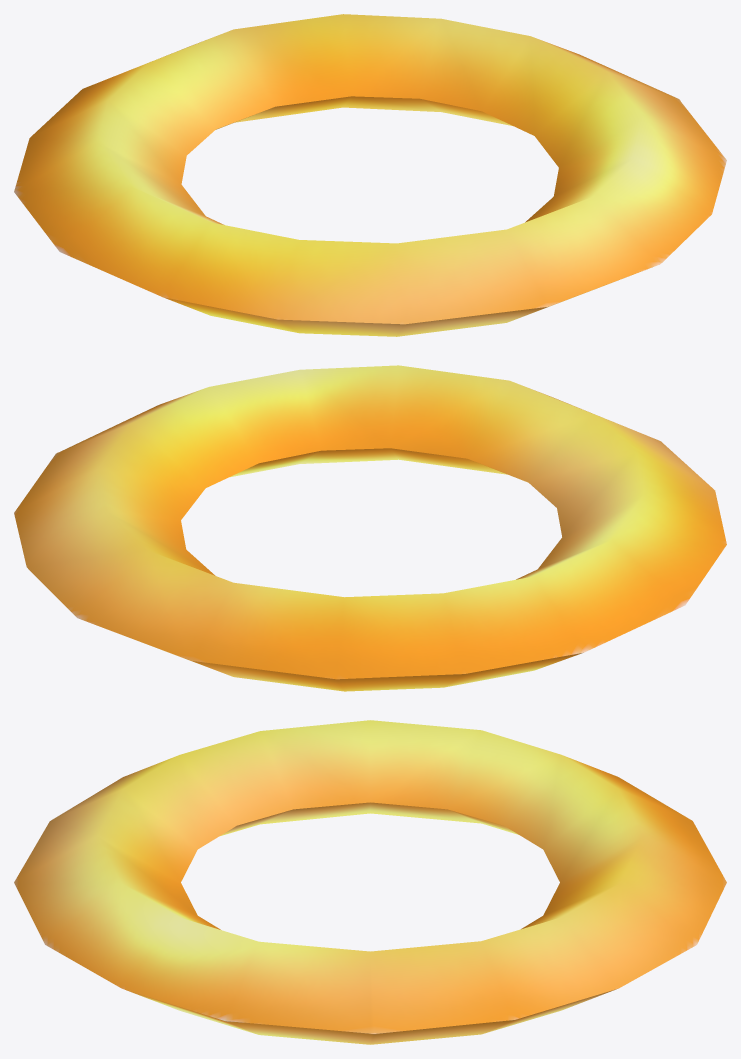
Rendered from giftgoods006.fbx.
3 views of the same model, one above another, from view 1: azimuth 30°, elevation 25°; view 2: azimuth 150°, elevation 25°; view 3: azimuth 270°, elevation 25° (orthographic).
Parts seen in each view (by area): view 1: giftgoods006; view 2: giftgoods006; view 3: giftgoods006.
Boxes of the visible parts, x1,y1,x2,y2 form: giftgoods006: [14, 14, 726, 336]; giftgoods006: [14, 365, 726, 691]; giftgoods006: [14, 720, 726, 1044].
Bounding box in the file's own units: 0.9779 × 0.1405 × 0.9729.
